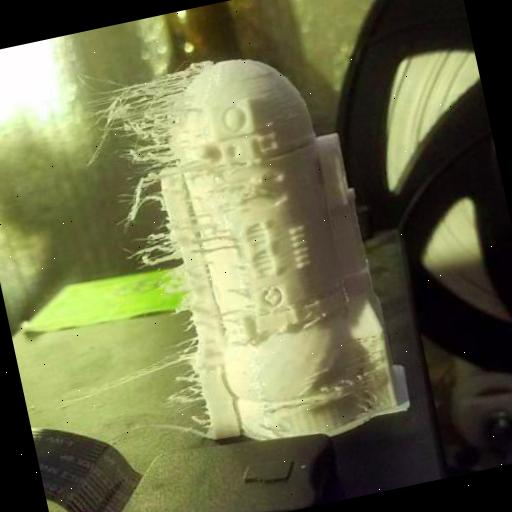spaghetti: (72, 48, 286, 452), (294, 326, 400, 428)
